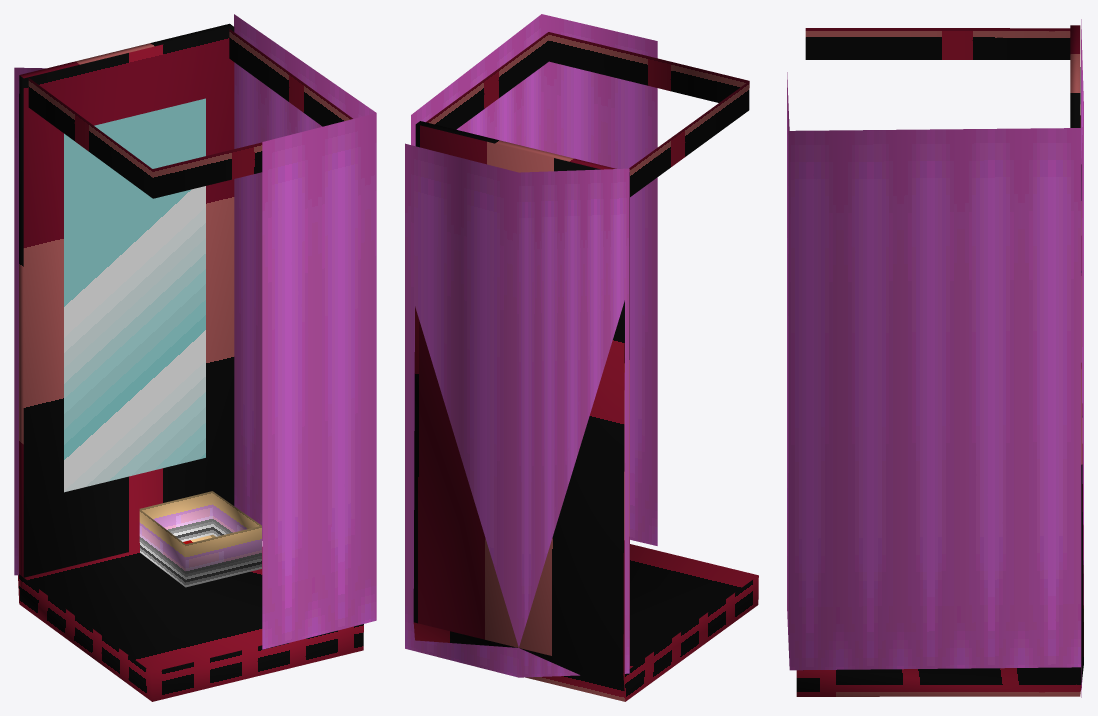
3 renders of one model, left to right at view 1: azimuth 30°, elevation 25°; view 2: azimuth 150°, elevation 25°; view 3: azimuth 270°, elevation 25°, orthographic. The views are drawn at different scales.
Visible parts, largest first — view 1: 3815kg_sh1_38; view 2: 3815kg_sh1_38; view 3: 3815kg_sh1_38.
Boxes of the visible parts, box(x1,y1,x2,y2) form: 3815kg_sh1_38: box(14, 14, 376, 701); 3815kg_sh1_38: box(405, 14, 758, 701); 3815kg_sh1_38: box(787, 19, 1083, 697).
Size of the model in its own units: 0.8477 by 1.93 by 0.9094.
3 materials, 3 textured.
